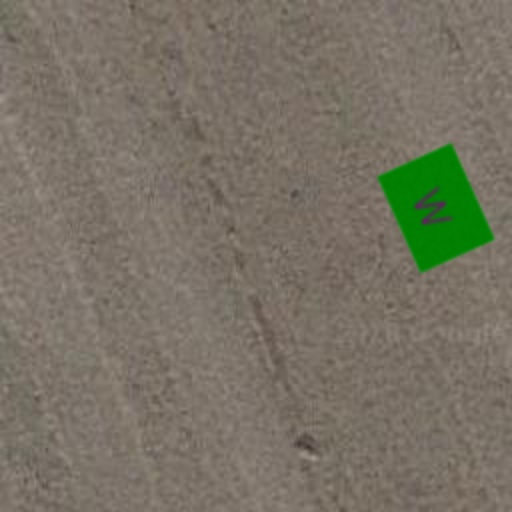rectangle: (364, 136, 508, 280)
